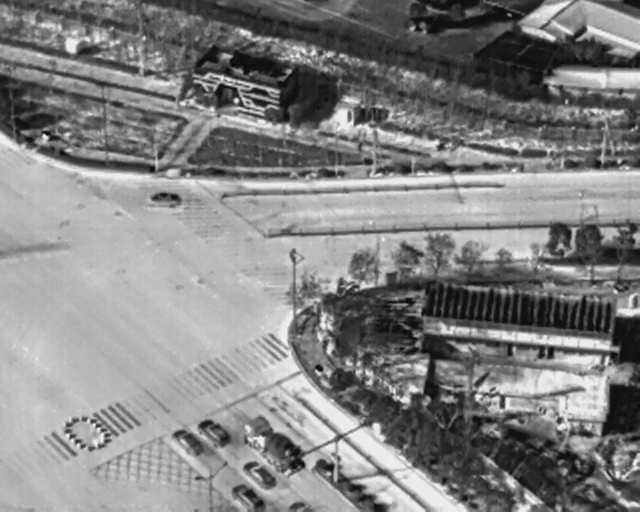Car: (195, 414, 233, 452), (241, 456, 278, 493), (170, 424, 206, 457), (232, 486, 265, 512), (145, 192, 181, 208)
